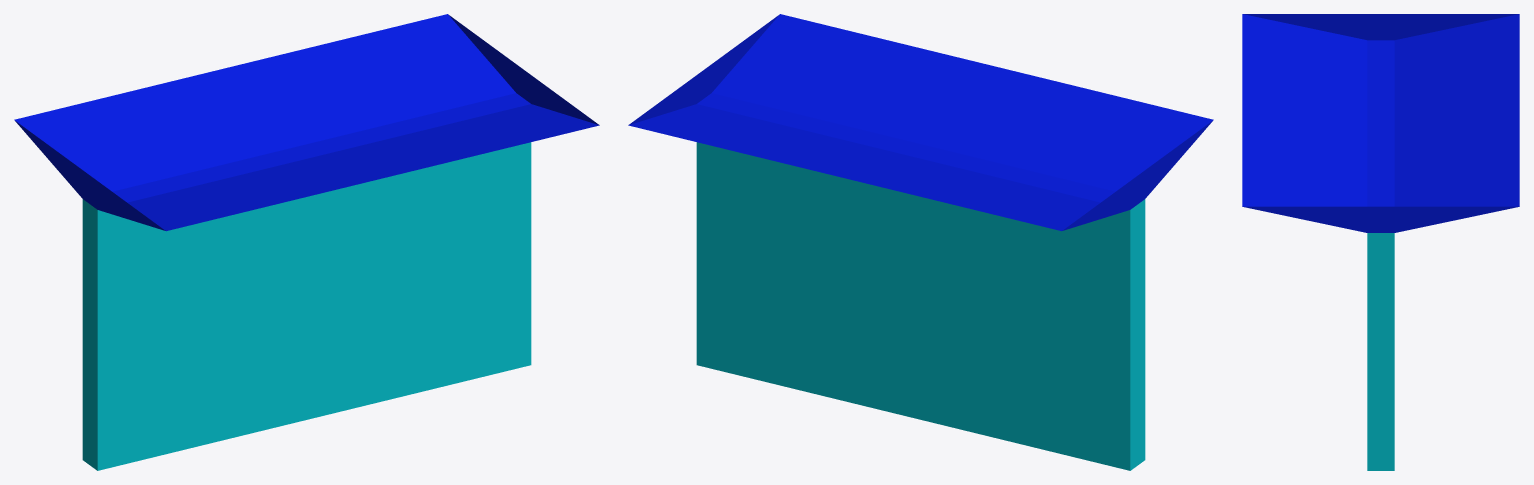
Rendered from Uitgangbord.fbx.
3 renders of one model, left to right at view 1: azimuth 30°, elevation 25°; view 2: azimuth 150°, elevation 25°; view 3: azimuth 270°, elevation 25°, orthographic. The views are drawn at different scales.
Parts seen in each view (by area): view 1: UitGangbord; view 2: UitGangbord; view 3: UitGangbord.
Boxes of the visible parts, x1=… form: UitGangbord: x1=14, y1=14, x2=599, y2=470; UitGangbord: x1=628, y1=14, x2=1213, y2=470; UitGangbord: x1=1242, y1=14, x2=1519, y2=470.
Bounding box in the file's own units: 38.05 × 24.31 × 23.13.
